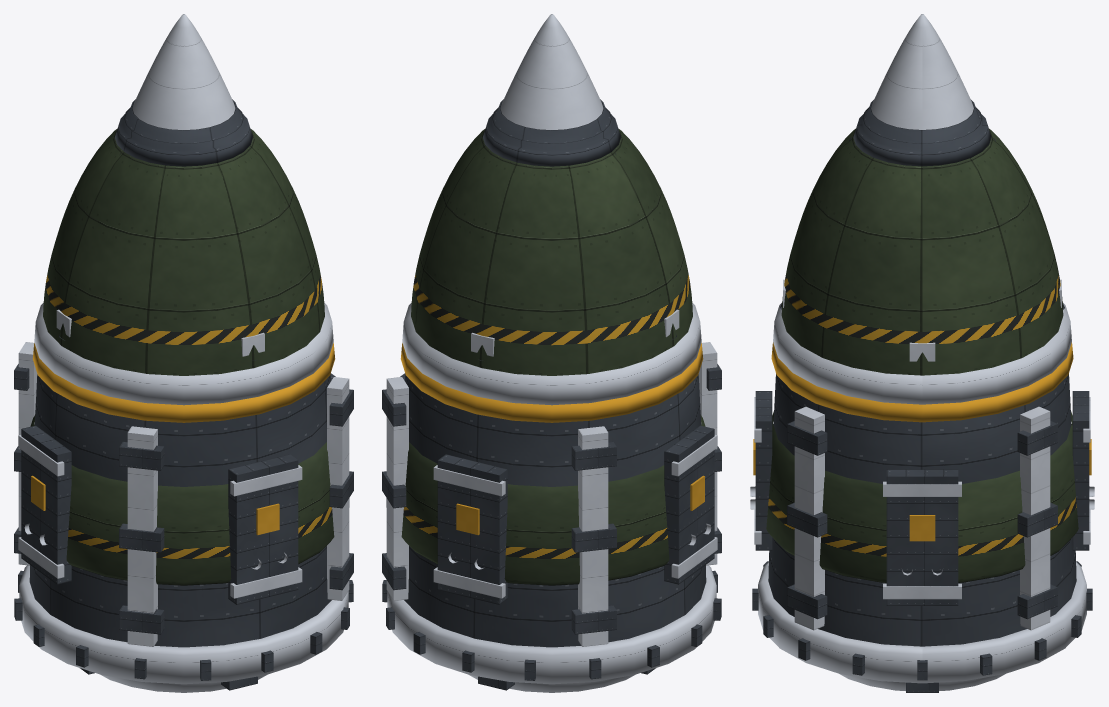
The model's file is heavy_icbm_warhead.glb.
3 views of the same model, side by side, from view 1: azimuth 30°, elevation 25°; view 2: azimuth 150°, elevation 25°; view 3: azimuth 270°, elevation 25° (orthographic).
Visible parts, largest first — view 1: Light_ICBM_Missile; view 2: Light_ICBM_Missile; view 3: Light_ICBM_Missile.
Part boxes in pixels (x1,y1,x2,y2): Light_ICBM_Missile: (14,14,353,692); Light_ICBM_Missile: (382,14,721,692); Light_ICBM_Missile: (750,14,1094,692).
Bounding box in the file's own units: 0.916 × 1.88 × 0.916.
Materials: 4 (4 with a texture image).
